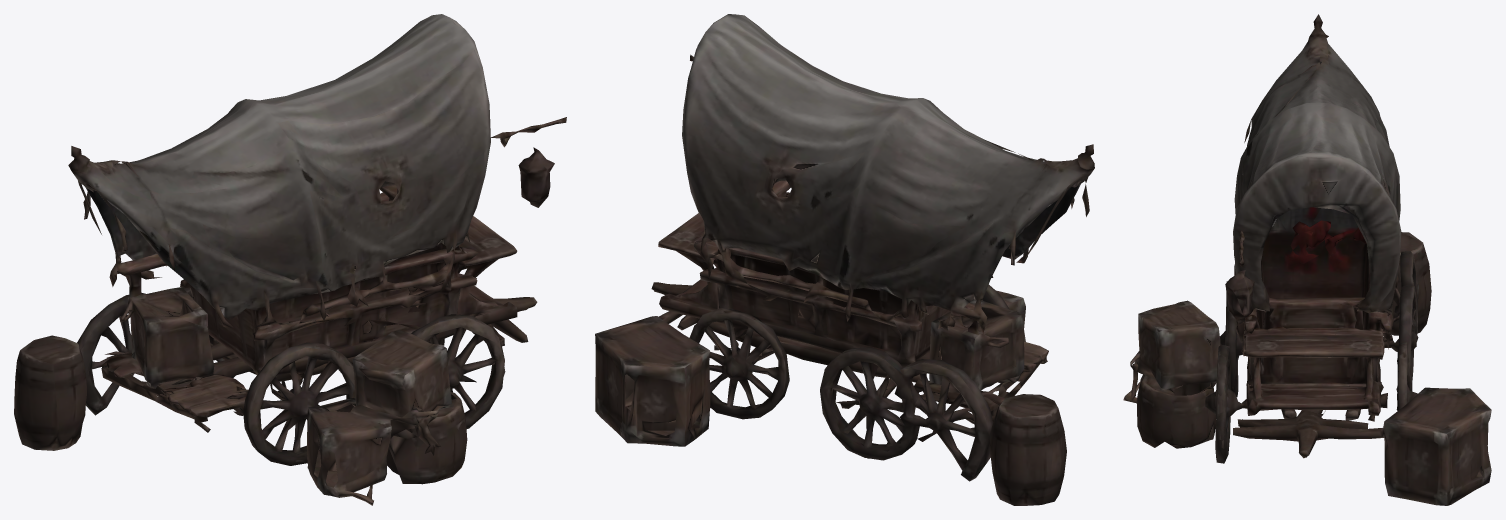
The model's file is merchant.glb.
The picture shows the model from 3 angles, left to right: view 1: azimuth 30°, elevation 25°; view 2: azimuth 150°, elevation 25°; view 3: azimuth 270°, elevation 25°; orthographic projection. The views are drawn at different scales.
Parts seen in each view (by area): view 1: geometry_0; view 2: geometry_0; view 3: geometry_0.
Part boxes in pixels (bbox=[...]): geometry_0: bbox=[14, 14, 566, 505]; geometry_0: bbox=[595, 14, 1094, 505]; geometry_0: bbox=[1123, 14, 1491, 505].
Bounding box in the file's own units: 0.9262 × 0.6895 × 0.6957.
1 material, 1 textured.
